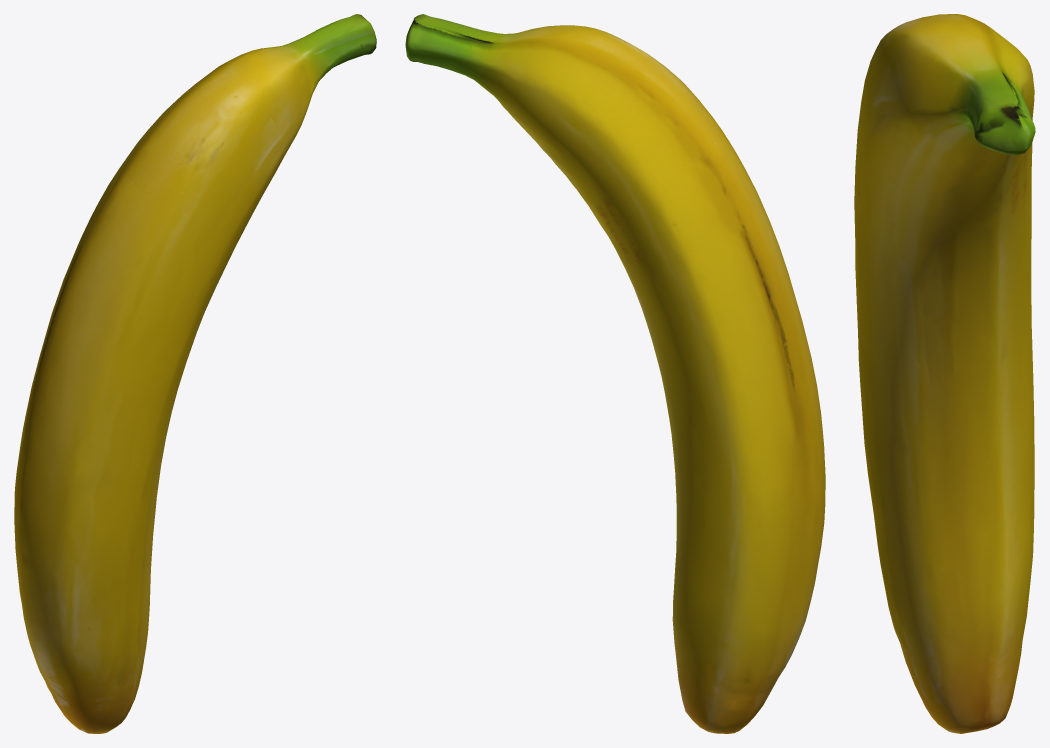
The picture shows the model from 3 angles, left to right: view 1: azimuth 30°, elevation 25°; view 2: azimuth 150°, elevation 25°; view 3: azimuth 270°, elevation 25°; orthographic projection. The views are drawn at different scales.
Visible parts, largest first — view 1: textured.024; view 2: textured.024; view 3: textured.024.
Part boxes in pixels (box(x1,y1,x2,y2)): textured.024: box(14, 14, 376, 733); textured.024: box(405, 14, 825, 733); textured.024: box(854, 14, 1035, 733).
Size of the model in its own units: 0.109 by 0.1784 by 0.0368.
1 material, 1 textured.
